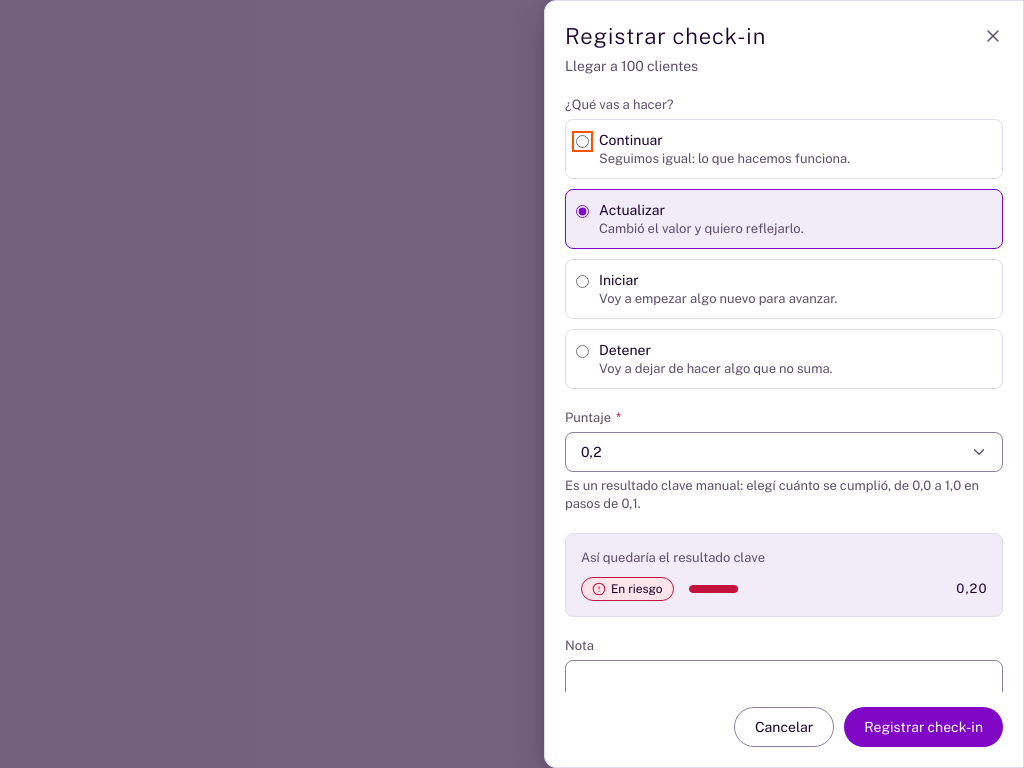
CheckInDrawer › KR manual: selector 0,0 a 1,0 en pasos de 0,1 y preview
Select "0,4" in the dropdown labelled "Puntaje*": (784,452) left=565, top=432, right=1003, bottom=472
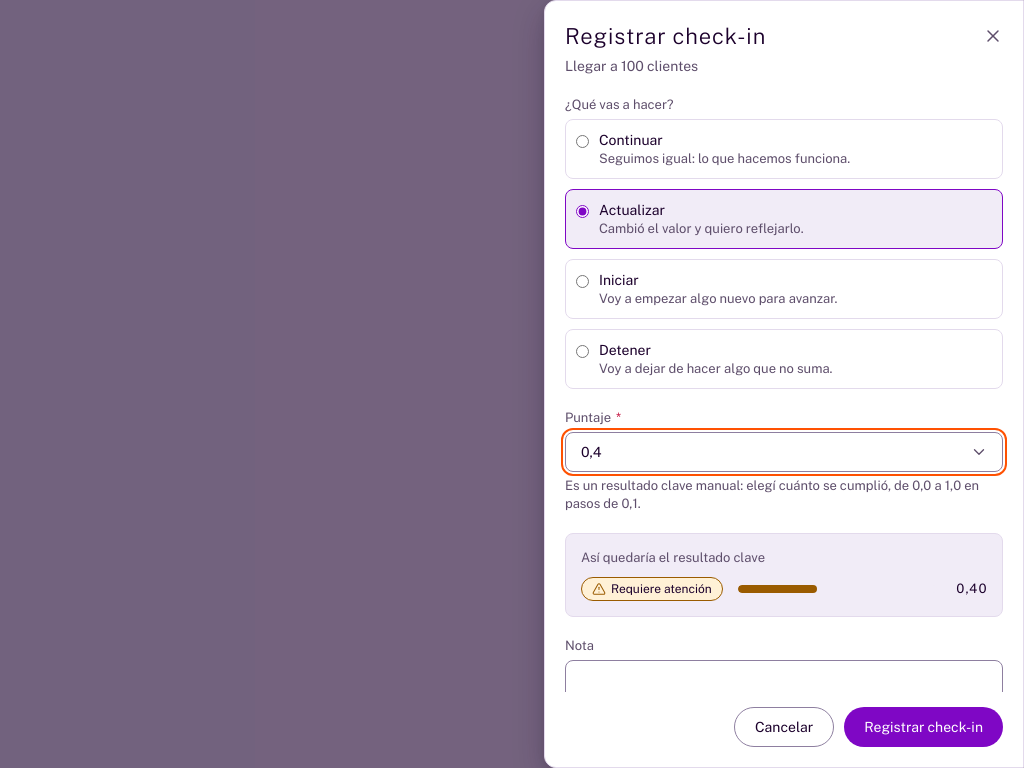
Expected: the element with test id "check-in-preview" shows "Requiere atención", left=611, top=582, right=712, bottom=596
